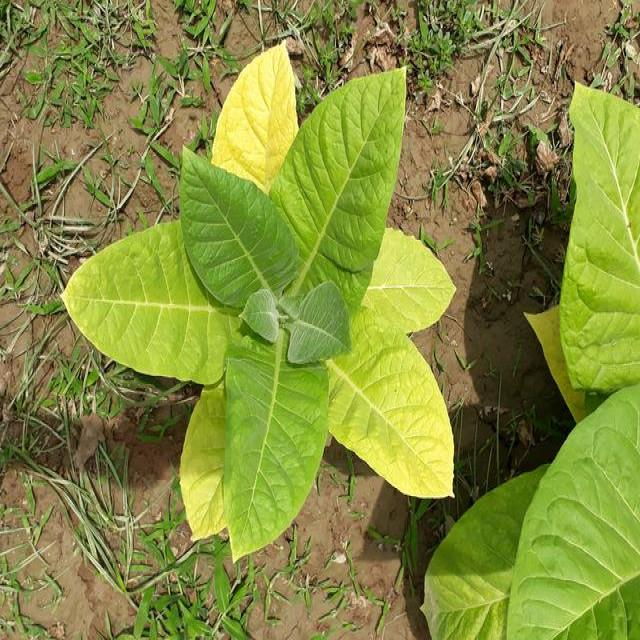crop: (73, 41, 459, 548), (427, 84, 640, 640)
